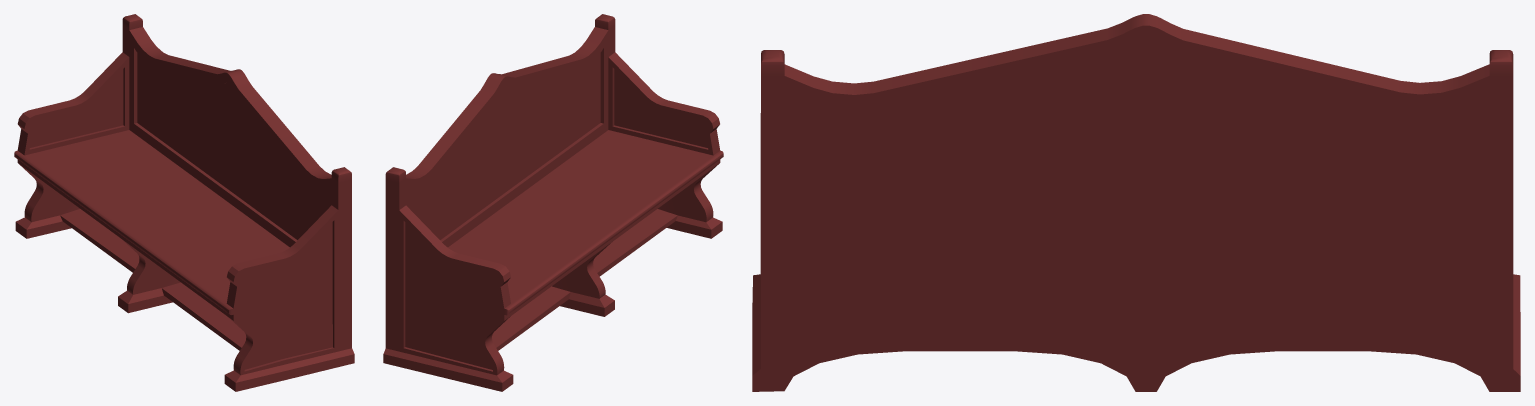
File: Bench.fbx
3 views of the same model, side by side, from view 1: azimuth 30°, elevation 25°; view 2: azimuth 150°, elevation 25°; view 3: azimuth 270°, elevation 25° (orthographic). The views are drawn at different scales.
Parts seen in each view (by area): view 1: Bench; view 2: Bench; view 3: Bench.
Boxes of the visible parts, box(x1,y1,x2,y2) form: Bench: box(14, 14, 354, 391); Bench: box(383, 14, 723, 391); Bench: box(752, 14, 1520, 391).
Bounding box in the file's own units: 65.65 × 107 × 204.
